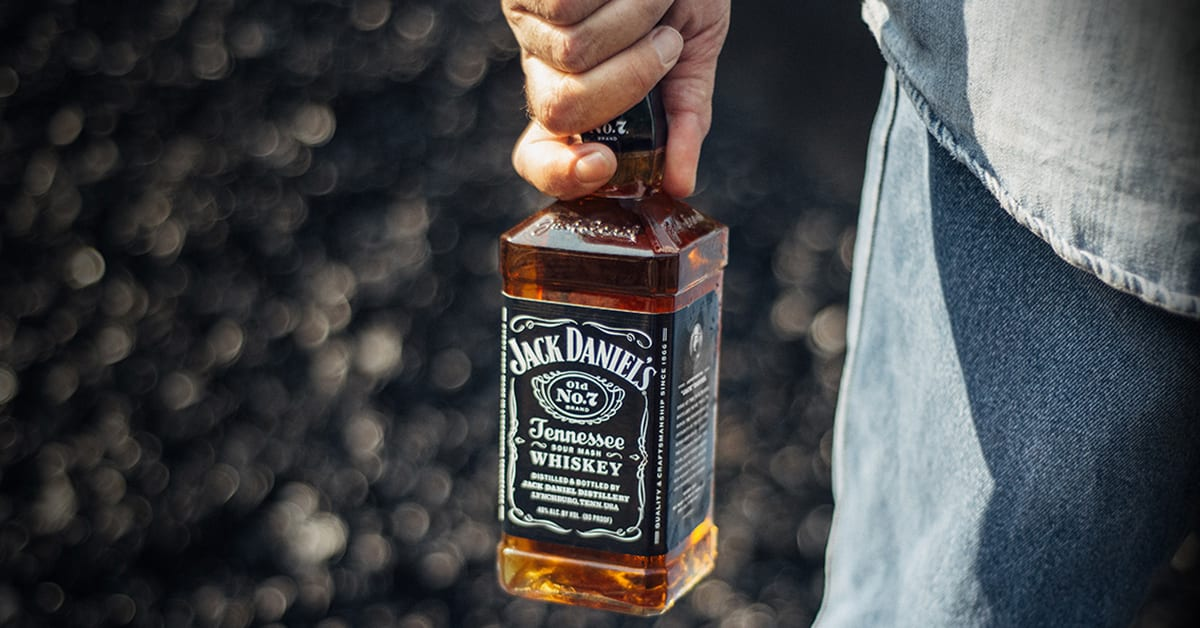Jack Daniel: (484, 68, 736, 624)
